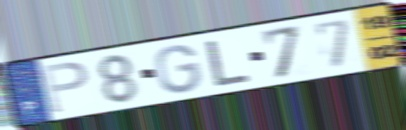7: (261, 22, 305, 81), (313, 17, 352, 70)
8: (94, 52, 141, 105)
G: (154, 43, 204, 95)
L: (205, 38, 254, 89)
P: (39, 59, 91, 115)
